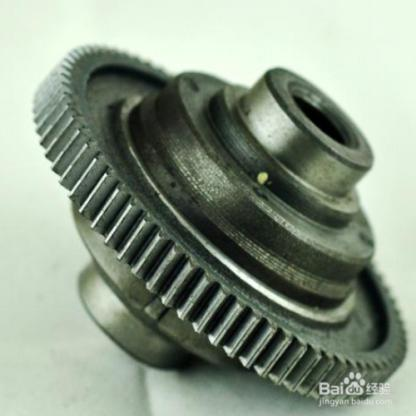FOD: (28, 36, 408, 410)
